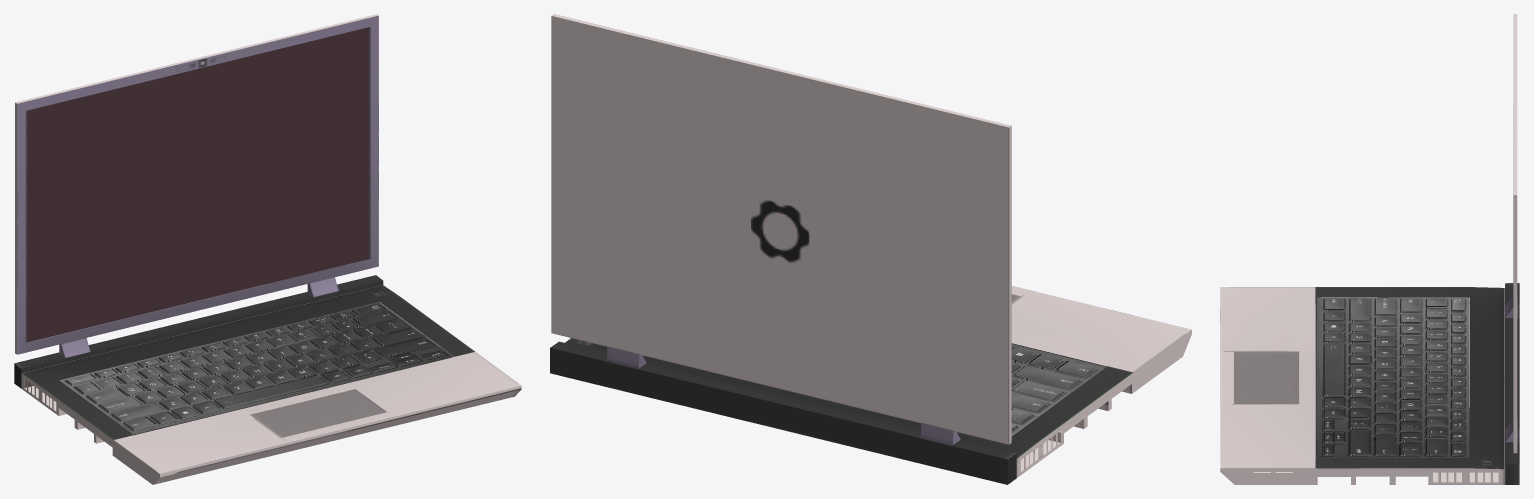
The model's file is framework_16_laptop.glb.
The picture shows the model from 3 angles, left to right: view 1: azimuth 30°, elevation 25°; view 2: azimuth 150°, elevation 25°; view 3: azimuth 270°, elevation 25°; orthographic projection. The views are drawn at different scales.
Visible parts, largest first — view 1: Screen, Chassi; view 2: Screen, Chassi; view 3: Chassi, Screen.
Boxes of the visible parts, box(x1,y1,x2,y2) form: Screen: box(15, 14, 378, 357); Chassi: box(14, 275, 521, 484); Screen: box(551, 14, 1011, 444); Chassi: box(550, 286, 1191, 484); Chassi: box(1220, 283, 1519, 484); Screen: box(1505, 14, 1517, 453).
Size of the model in its own units: 2.03 by 1.51 by 1.42.
Materials: 2 (2 with a texture image).
